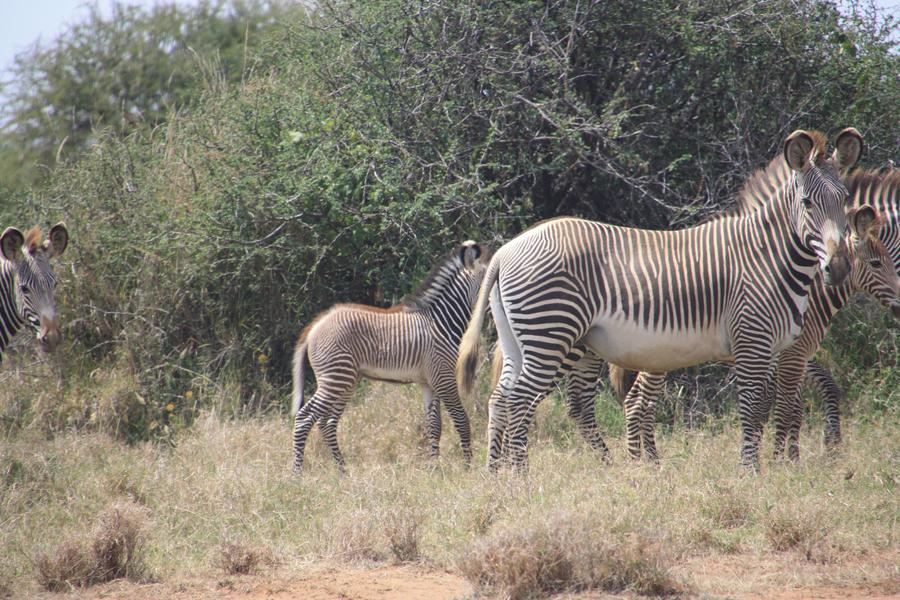zebra_grevys: (305, 298, 452, 367)
